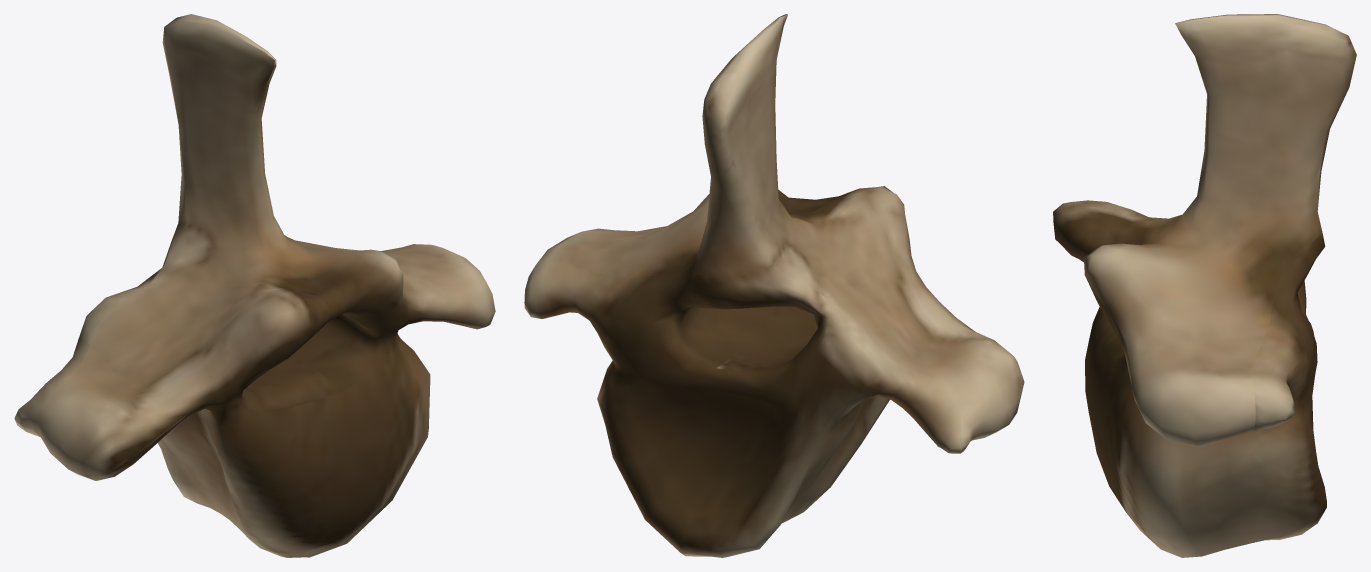
Rendered from Thoracic_Vertebrae13.glb.
3 renders of one model, left to right at view 1: azimuth 30°, elevation 25°; view 2: azimuth 150°, elevation 25°; view 3: azimuth 270°, elevation 25°, orthographic. The views are drawn at different scales.
Visible parts, largest first — view 1: Horse_low:SelSet_56Merged_L_Frt_Sesamoid_Bones_1; view 2: Horse_low:SelSet_56Merged_L_Frt_Sesamoid_Bones_1; view 3: Horse_low:SelSet_56Merged_L_Frt_Sesamoid_Bones_1.
Boxes of the visible parts, x1,y1,x2,y2 form: Horse_low:SelSet_56Merged_L_Frt_Sesamoid_Bones_1: (14, 14, 495, 557); Horse_low:SelSet_56Merged_L_Frt_Sesamoid_Bones_1: (524, 14, 1024, 557); Horse_low:SelSet_56Merged_L_Frt_Sesamoid_Bones_1: (1053, 14, 1356, 557).
Bounding box in the file's own units: 0.1153 × 0.1287 × 0.0689.
Materials: 1 (1 with a texture image).
